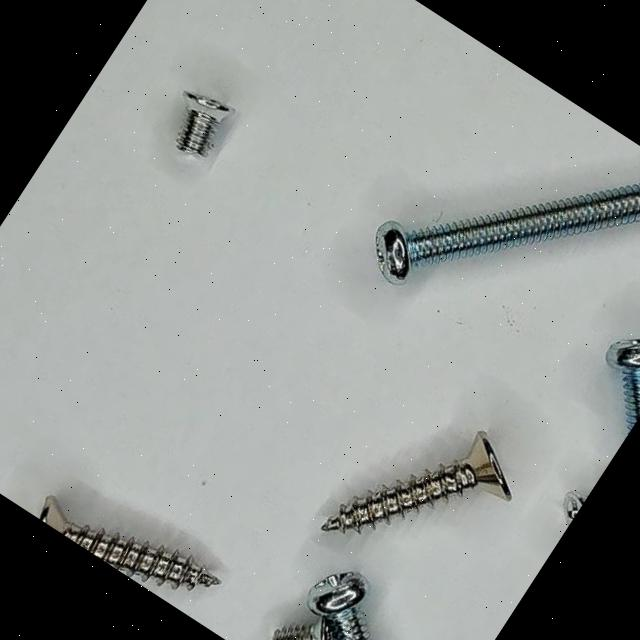Screw: (374, 183, 640, 283), (320, 431, 511, 532), (37, 497, 219, 591), (272, 572, 370, 640), (307, 572, 370, 640), (173, 91, 232, 155), (606, 340, 640, 432), (270, 618, 331, 640), (563, 492, 587, 526)
